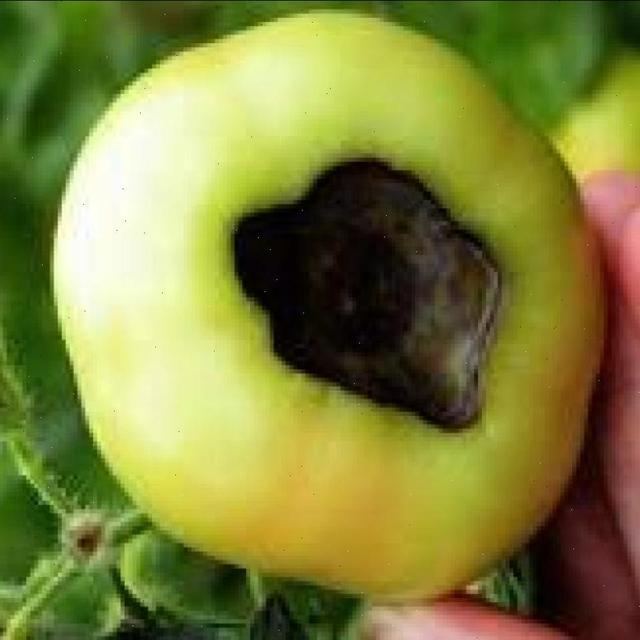Blossom End Rot Fruit: (147, 109, 338, 292)
